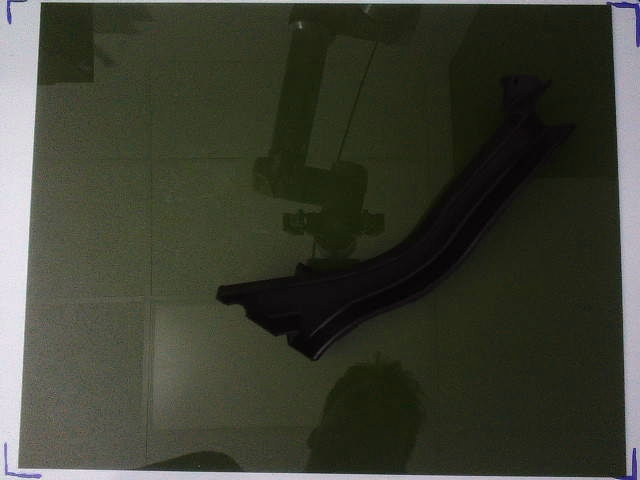887_A-Under: (216, 74, 576, 361)
